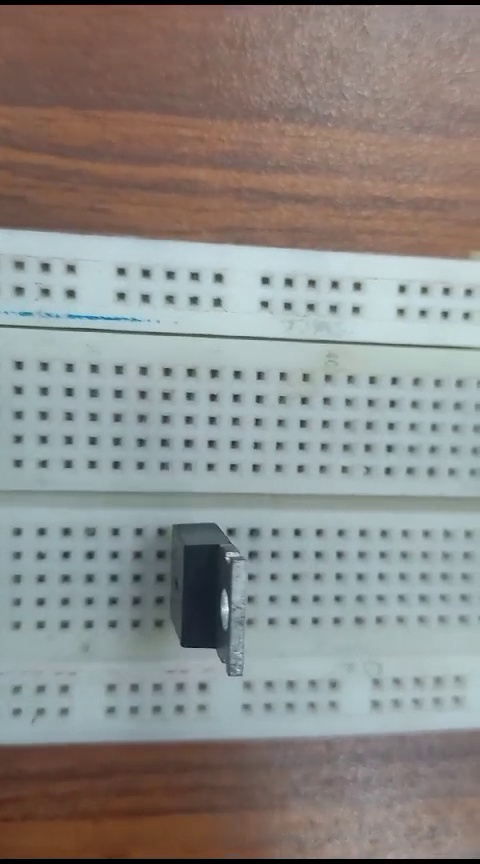voltage regulator: (156, 509, 261, 701)
